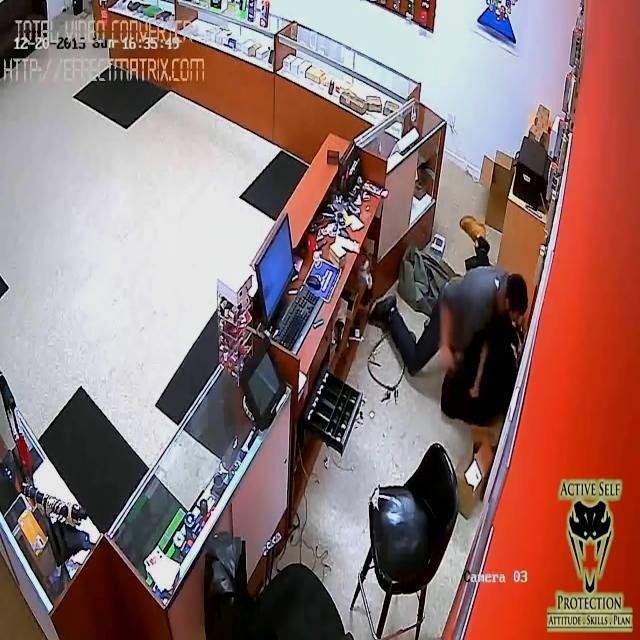fight: (372, 255, 538, 416)
